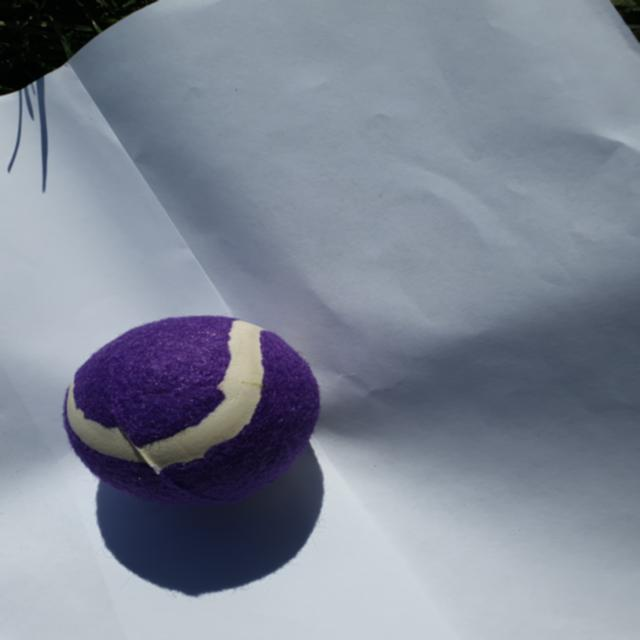purple: (63, 316, 320, 507)
